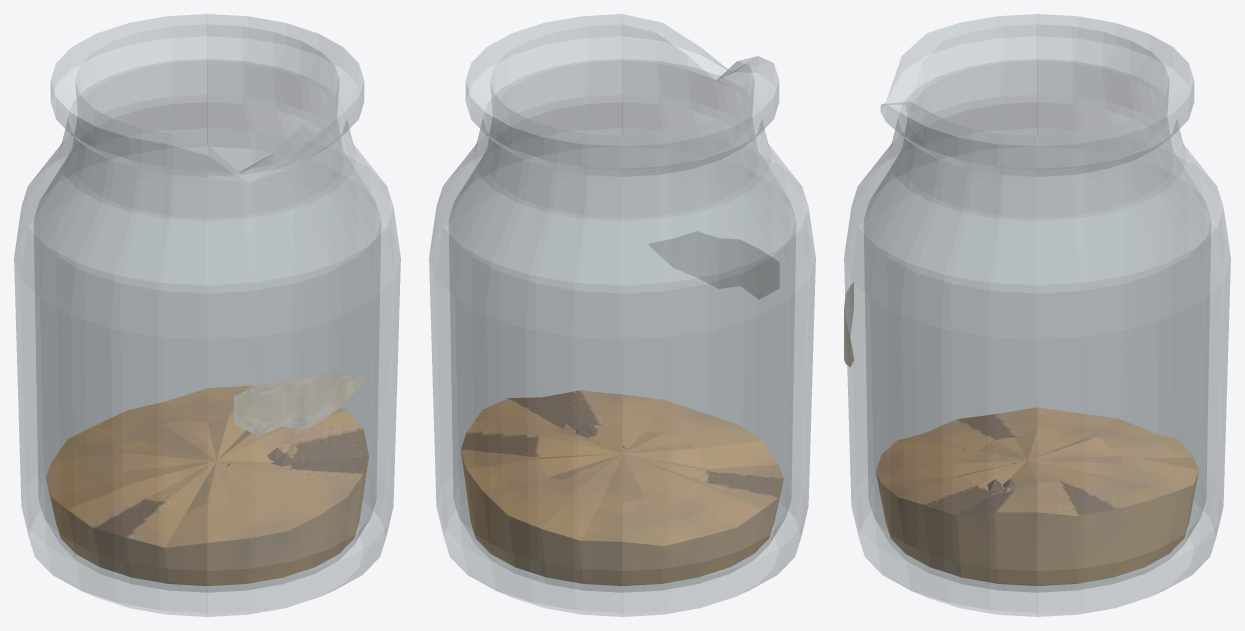
File: K18_glass_jars_v3.glb
The picture shows the model from 3 angles, left to right: view 1: azimuth 30°, elevation 25°; view 2: azimuth 150°, elevation 25°; view 3: azimuth 270°, elevation 25°; orthographic projection.
Parts seen in each view (by area): view 1: Chipped orange pigment jar; view 2: Chipped orange pigment jar; view 3: Chipped orange pigment jar.
Boxes of the visible parts, box(x1,y1,x2,y2) form: Chipped orange pigment jar: box(14, 14, 400, 616); Chipped orange pigment jar: box(429, 14, 815, 616); Chipped orange pigment jar: box(844, 14, 1230, 616).
Bounding box in the file's own units: 0.1863 × 0.25 × 0.1863.
4 materials, 3 textured.
